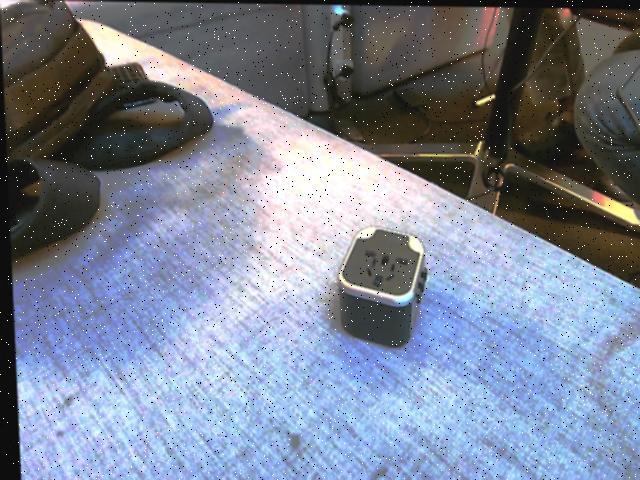adapter: (332, 224, 428, 347)
